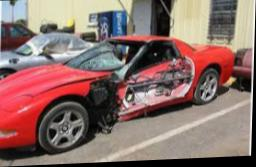Door: (114, 40, 200, 123)
Fender: (32, 71, 119, 136)
Windshield: (60, 39, 146, 71)
